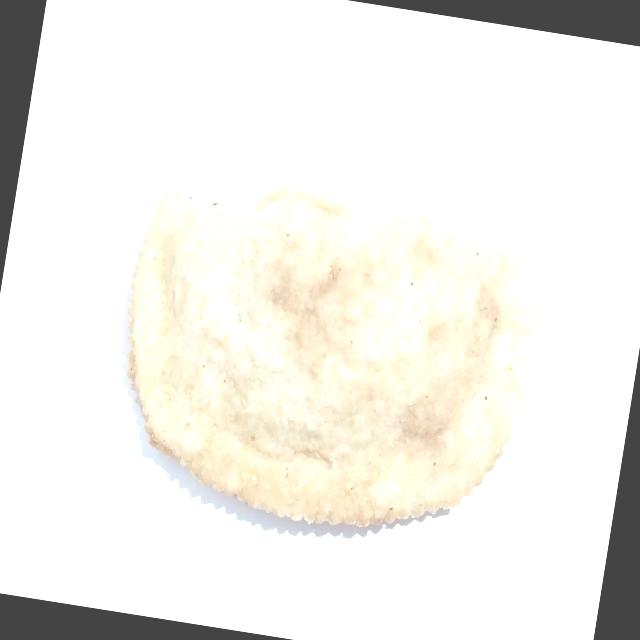Pastel_Mandio: (87, 145, 561, 578)
